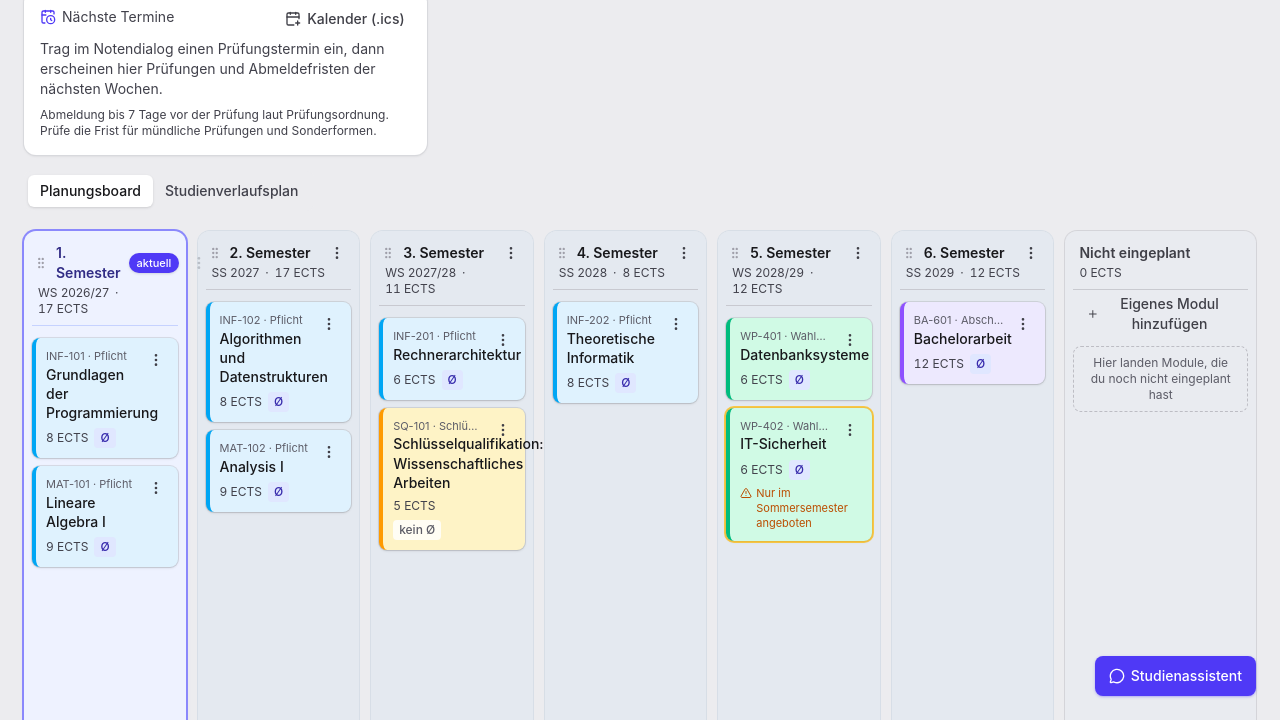
Test case: module details dialog › renders a non-http website as plain text
(page scrolled)
Click the button named "Aktionen für Grundlagen der Programmierung". click: (156,360)
box: [140,344,172,376]
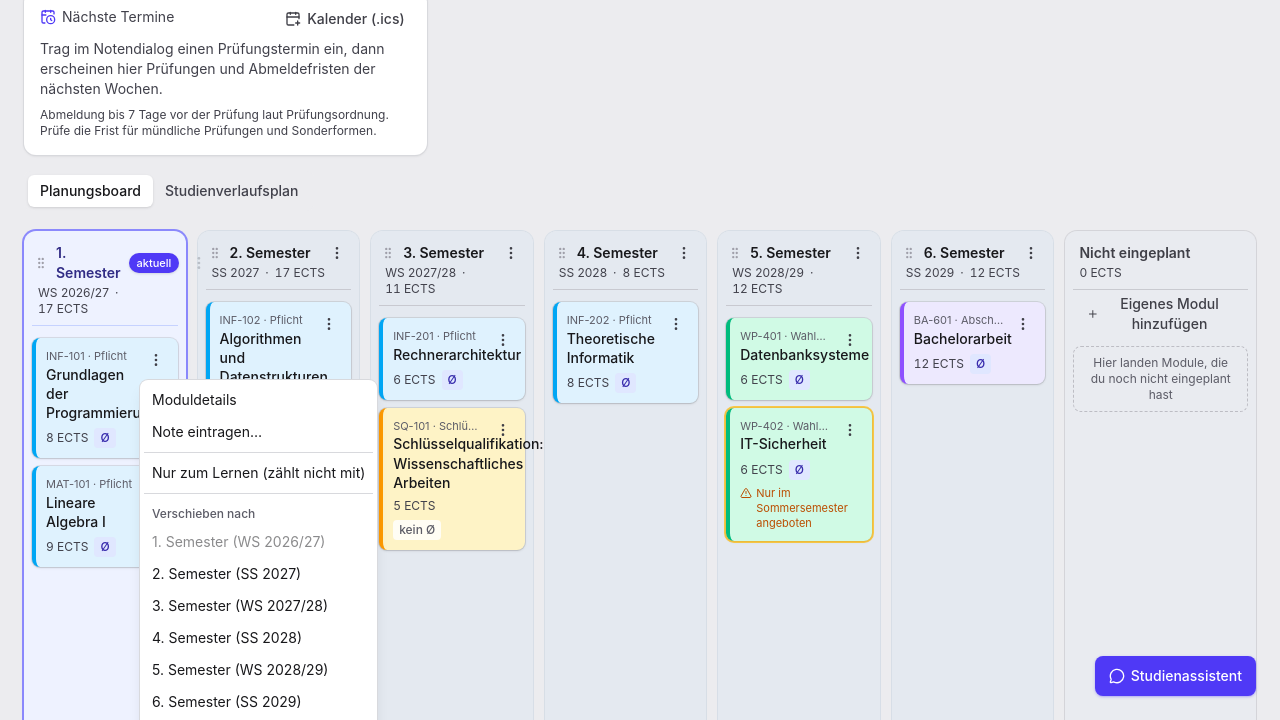
Click the menu item "Moduldetails". click: (194,400)
box: [152,391,237,408]
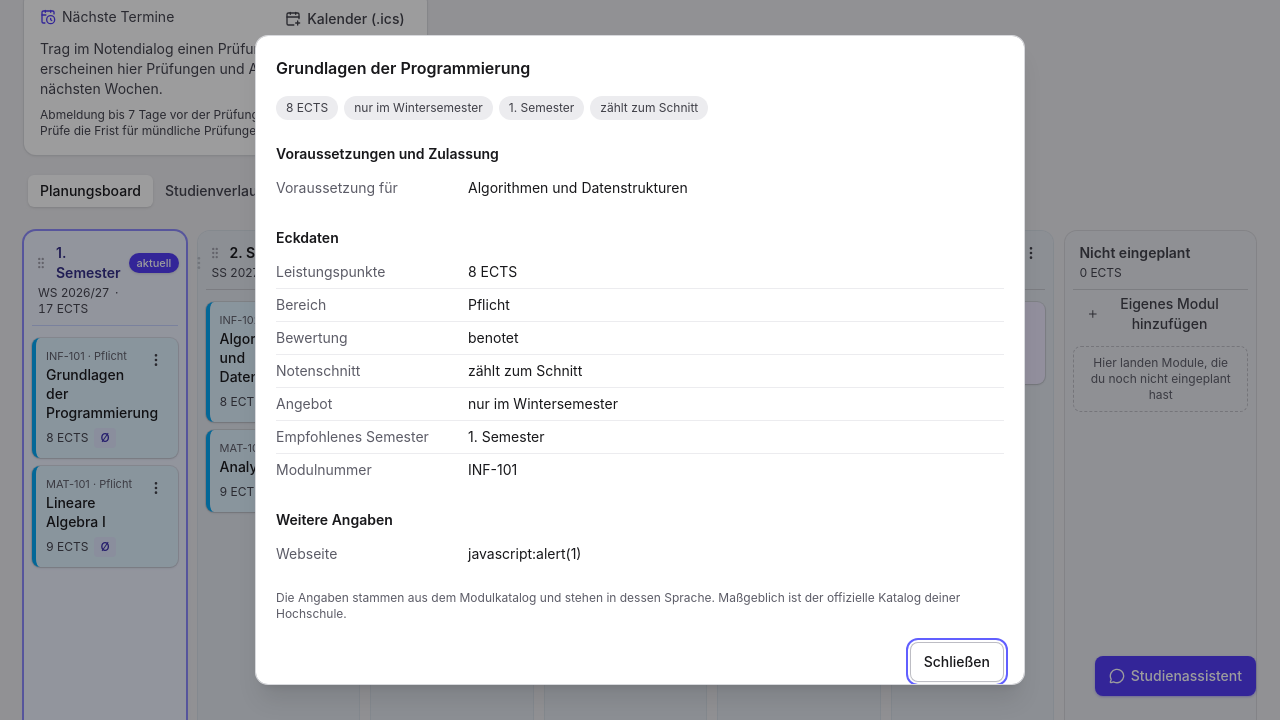
Now the element showing "javascript:alert(1)" is shown, box [468,545,582,562]
